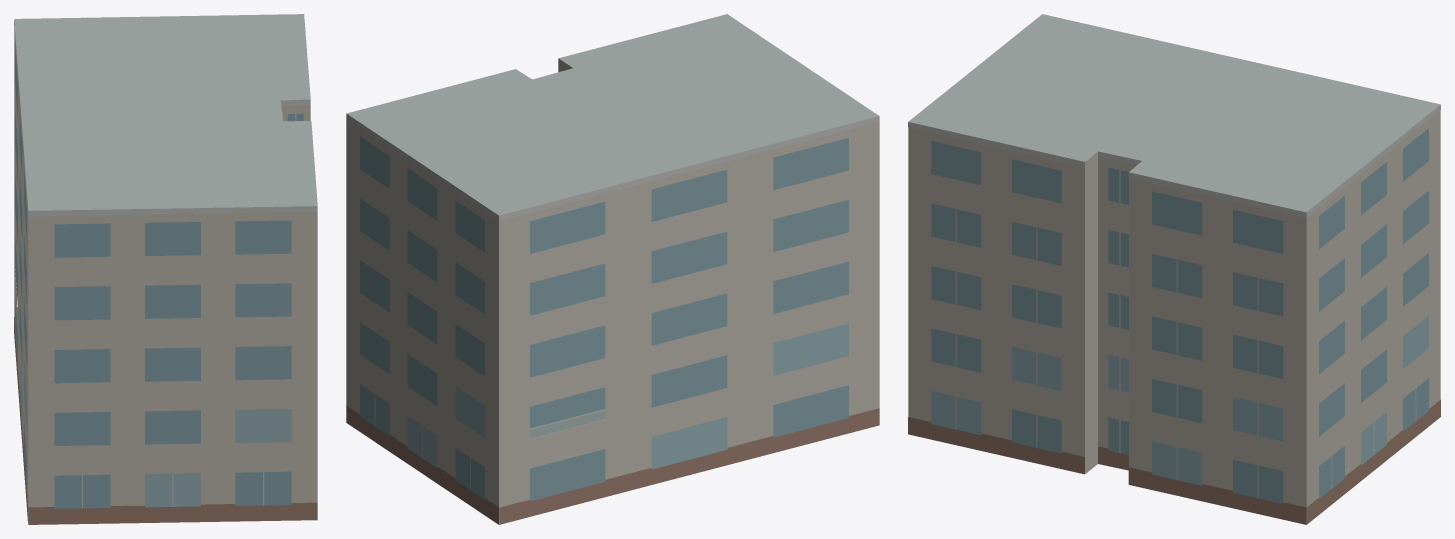
The model's file is survey-upis-32669803.glb.
3 views of the same model, side by side, from view 1: azimuth 30°, elevation 25°; view 2: azimuth 150°, elevation 25°; view 3: azimuth 270°, elevation 25° (orthographic).
Visible parts, largest first — view 1: survey-upis-32669803.tmp; view 2: survey-upis-32669803.tmp; view 3: survey-upis-32669803.tmp.
Boxes of the visible parts, x1,y1,x2,y2 form: survey-upis-32669803.tmp: (14,14,317,524); survey-upis-32669803.tmp: (346,14,879,524); survey-upis-32669803.tmp: (908,14,1440,524).
Bounding box in the file's own units: 18.39 × 13.5 × 20.87.
